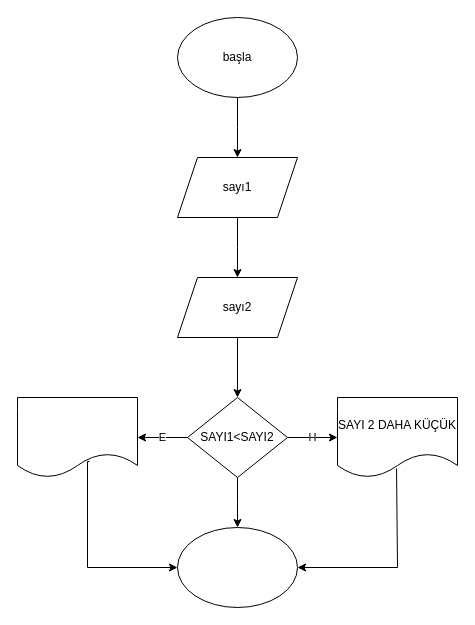
Some shapes in this 475 by 625 pixel diagram are drawn without their labels. Each missing label, with the centre of its shape:
"DUR" goes at point (237, 567).
"SAYI 1 DAHA KÜÇÜK" goes at point (77, 437).
